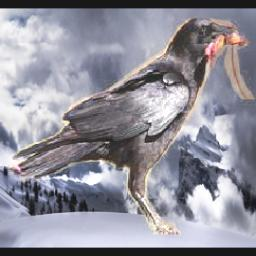Crow: (10, 8, 256, 235)
